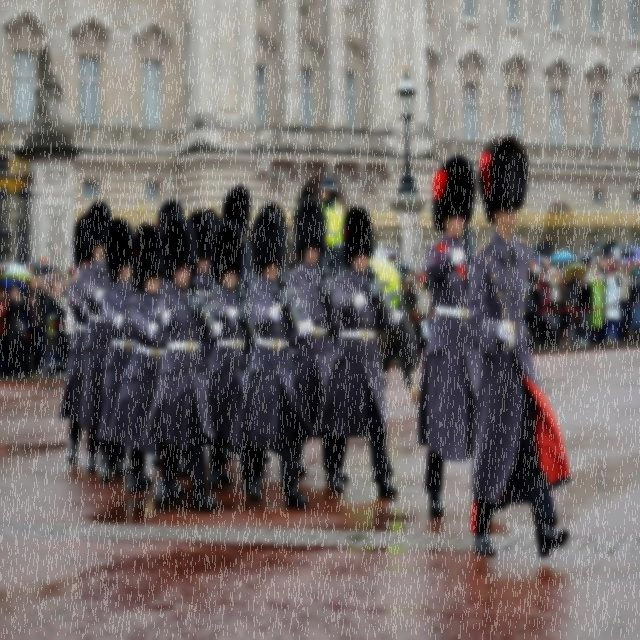pessoa: (468, 135, 570, 558), (316, 205, 404, 501), (228, 207, 312, 515), (141, 214, 225, 517), (278, 194, 354, 486), (421, 154, 478, 520), (197, 217, 268, 490), (106, 220, 170, 494), (94, 216, 156, 490), (76, 200, 115, 474), (57, 214, 93, 466), (186, 208, 222, 380), (38, 264, 78, 372), (534, 320, 640, 350), (203, 180, 254, 239), (526, 250, 640, 274), (22, 274, 48, 379), (316, 172, 346, 250), (4, 284, 28, 378), (601, 264, 622, 344), (257, 200, 288, 254), (615, 260, 634, 344), (545, 264, 564, 348), (588, 267, 606, 345), (576, 271, 594, 346), (386, 248, 430, 278), (400, 272, 420, 337), (156, 193, 187, 232), (536, 270, 550, 348), (522, 272, 536, 348), (558, 273, 572, 348), (0, 286, 10, 380), (414, 273, 430, 322), (630, 274, 640, 343), (424, 276, 434, 325), (178, 442, 190, 480), (223, 439, 241, 463), (568, 268, 582, 290), (150, 446, 162, 468), (24, 346, 32, 378), (627, 260, 636, 282), (262, 451, 270, 466)
